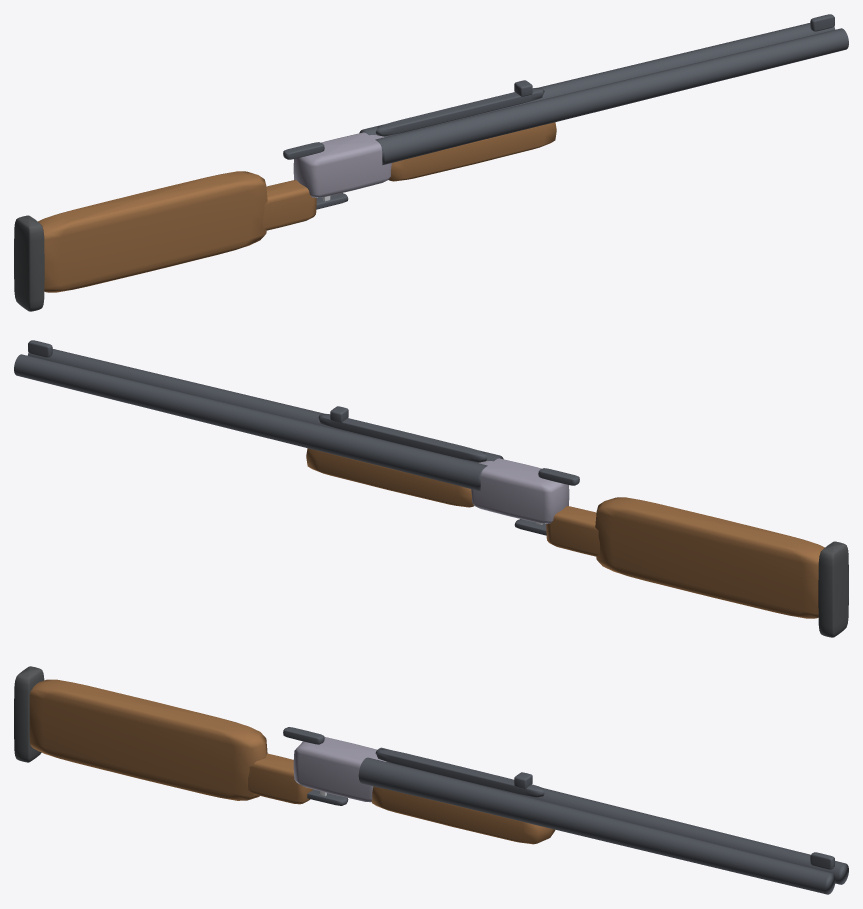
File: elephant-700ne-reg.glb
3 renders of one model, top to bottom at view 1: azimuth 30°, elevation 25°; view 2: azimuth 150°, elevation 25°; view 3: azimuth 330°, elevation 25°, orthographic.
Parts seen in each view (by area): view 1: buttstock_main, barrel_R_660mm, sidelock_action, barrel_L_660mm, forend_walnut, buttpad_recoil, quarter_rib, wrist_grip; view 2: buttstock_main, barrel_L_660mm, sidelock_action, barrel_R_660mm, forend_walnut, buttpad_recoil, quarter_rib, wrist_grip; view 3: buttstock_main, barrel_R_660mm, barrel_L_660mm, forend_walnut, sidelock_action, quarter_rib, wrist_grip, buttpad_recoil, top_lever.
Part boxes in pixels (box(x1,y1,x2,y2)): buttstock_main: box(38, 171, 267, 292); barrel_R_660mm: box(375, 28, 848, 165); sidelock_action: box(293, 132, 391, 197); barrel_L_660mm: box(359, 23, 834, 136); forend_walnut: box(389, 122, 556, 181); buttpad_recoil: box(14, 215, 44, 311); quarter_rib: box(375, 88, 544, 136); wrist_grip: box(263, 180, 316, 230); buttstock_main: box(595, 497, 824, 618); barrel_L_660mm: box(14, 354, 487, 491); sidelock_action: box(471, 458, 569, 523); barrel_R_660mm: box(28, 349, 503, 462); forend_walnut: box(306, 448, 473, 507); buttpad_recoil: box(818, 541, 848, 637); quarter_rib: box(318, 414, 487, 462); wrist_grip: box(546, 506, 599, 556); buttstock_main: box(29, 679, 267, 800); barrel_R_660mm: box(358, 757, 835, 894); barrel_L_660mm: box(375, 747, 848, 884); forend_walnut: box(371, 786, 555, 844); sidelock_action: box(293, 737, 386, 802); quarter_rib: box(375, 749, 544, 797); wrist_grip: box(248, 753, 312, 804); buttpad_recoil: box(14, 666, 44, 762); top_lever: box(283, 727, 324, 744).
Size of the model in its own units: 1.16 by 0.14 by 0.066.
